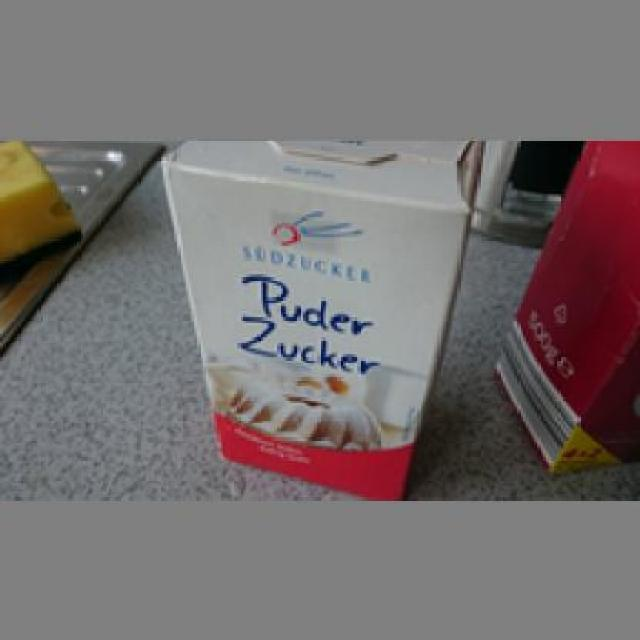Sugar: (154, 137, 483, 494)
